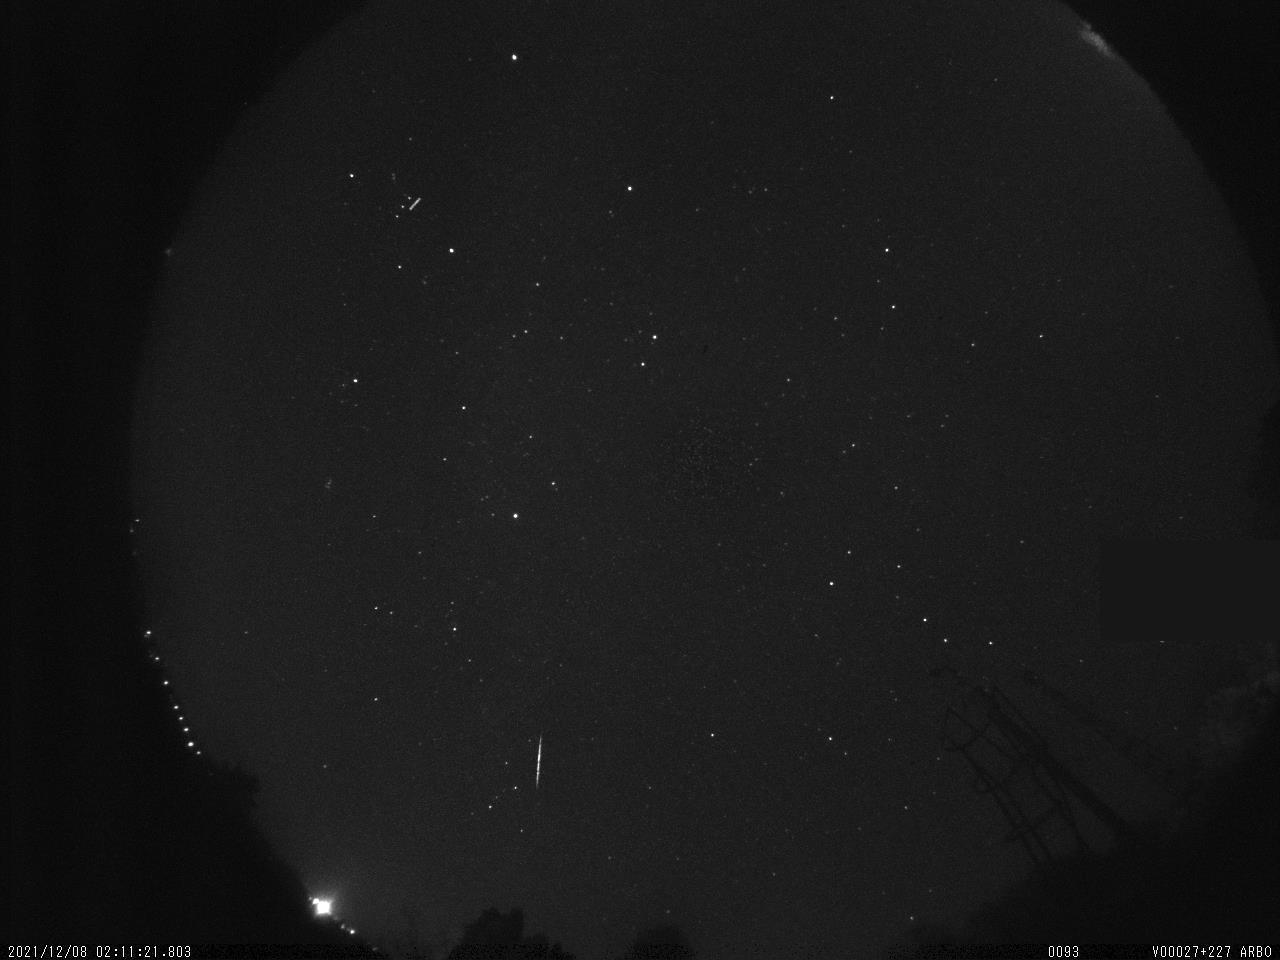meteor: (528, 717, 557, 800)
